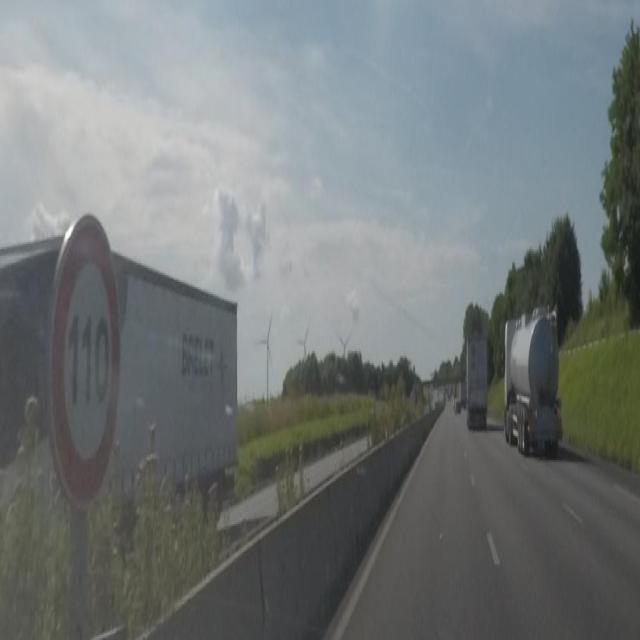speed_110: (54, 210, 120, 501)
